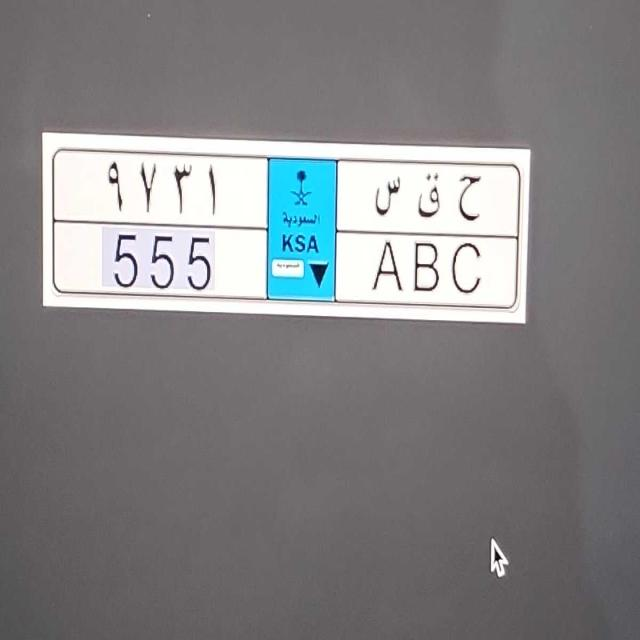license_plate: (45, 224, 520, 309)
